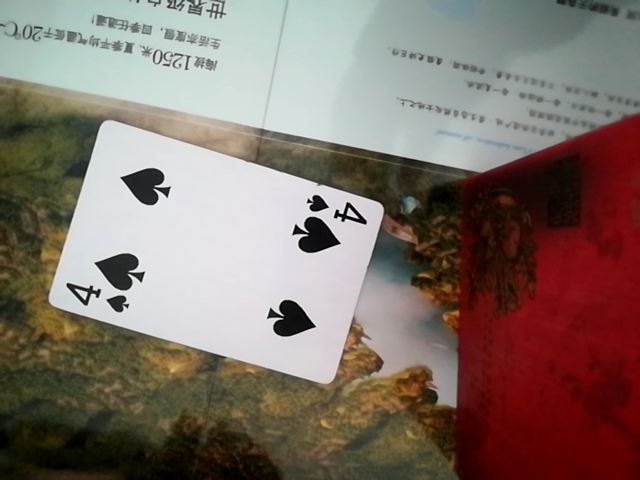ht 4: (45, 121, 402, 389)
